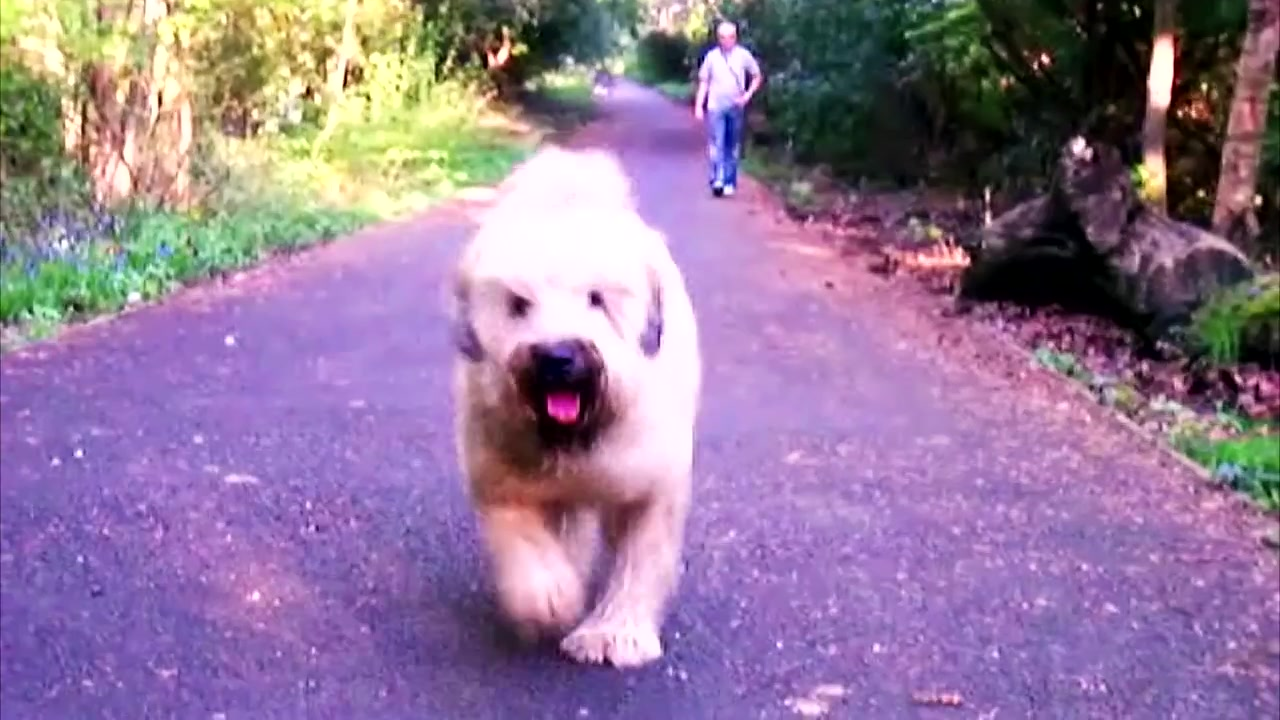dog: (448, 138, 710, 672)
